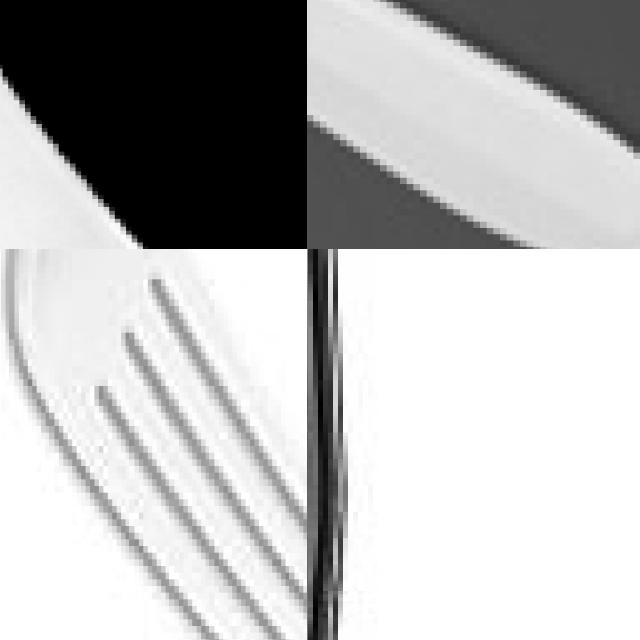forks: (0, 249, 307, 640), (0, 0, 307, 249)
